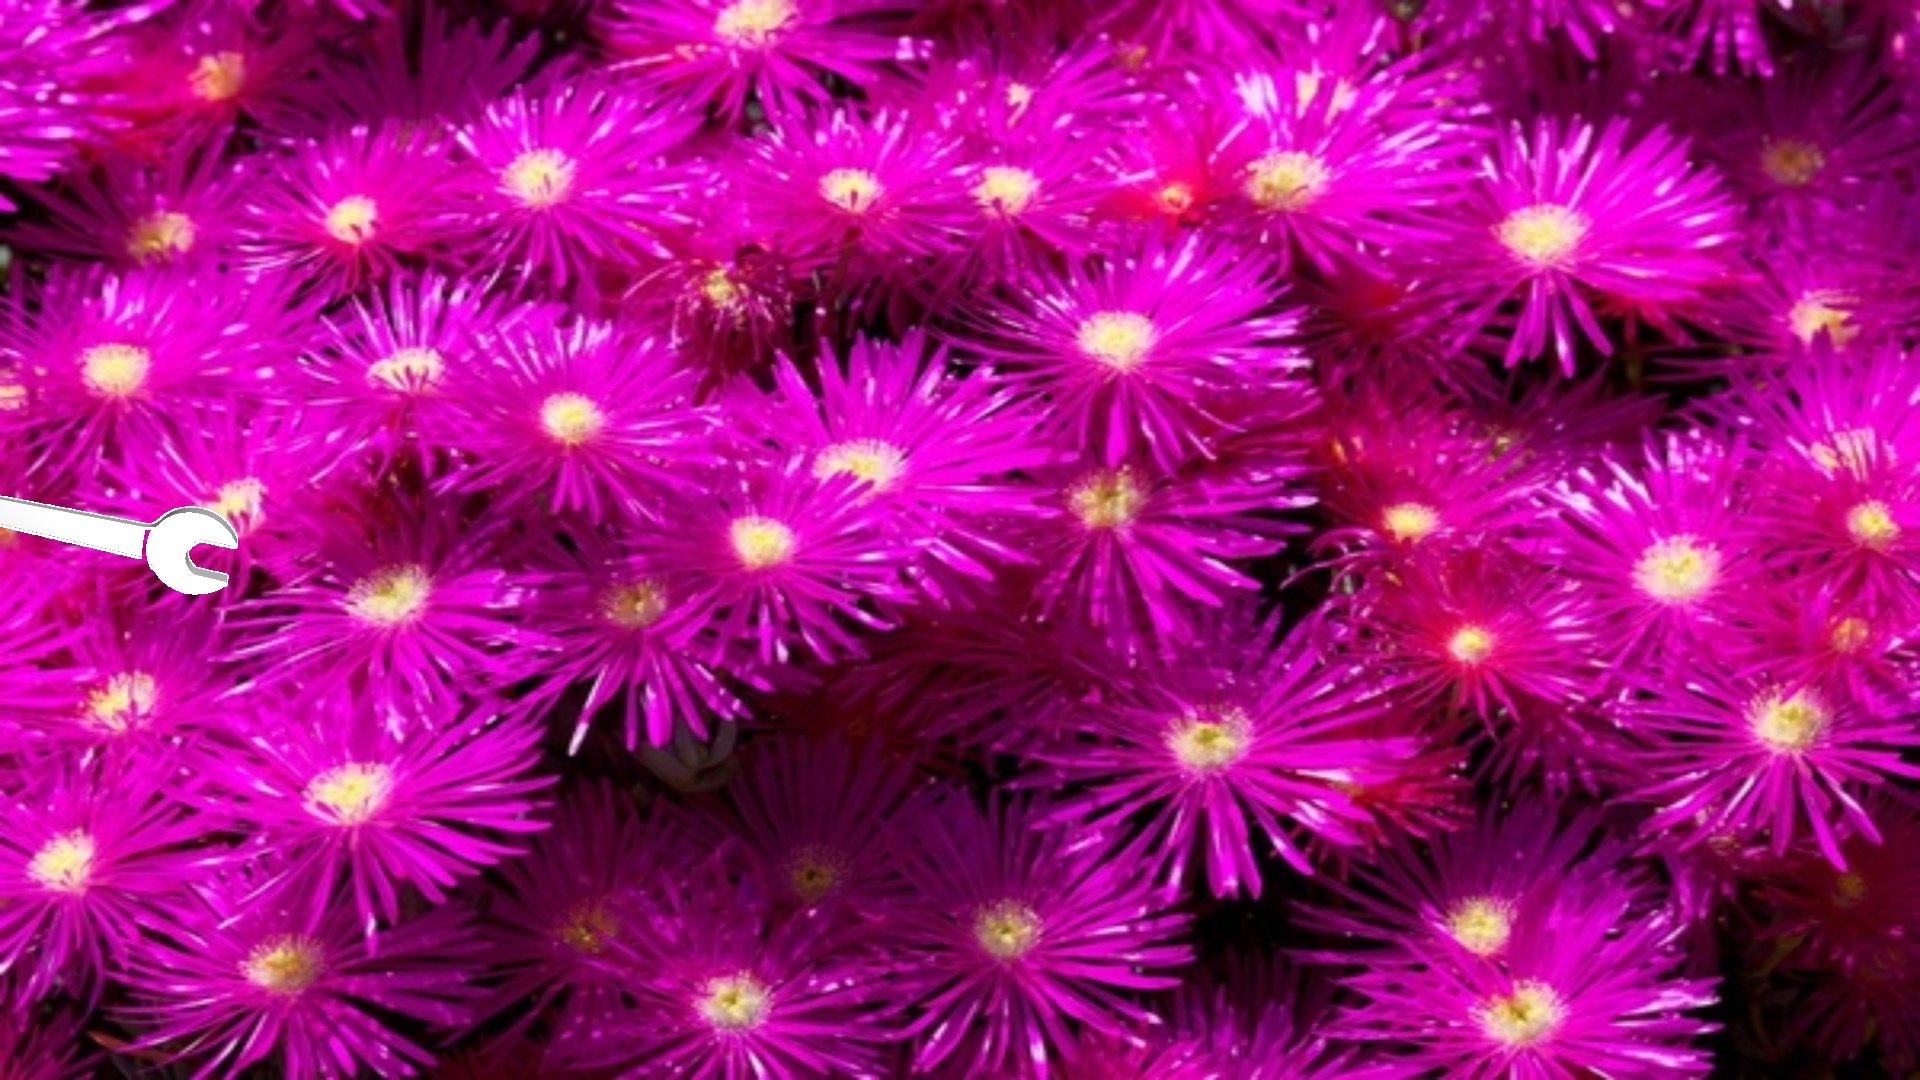Mixed Key: (0, 495, 237, 593)
